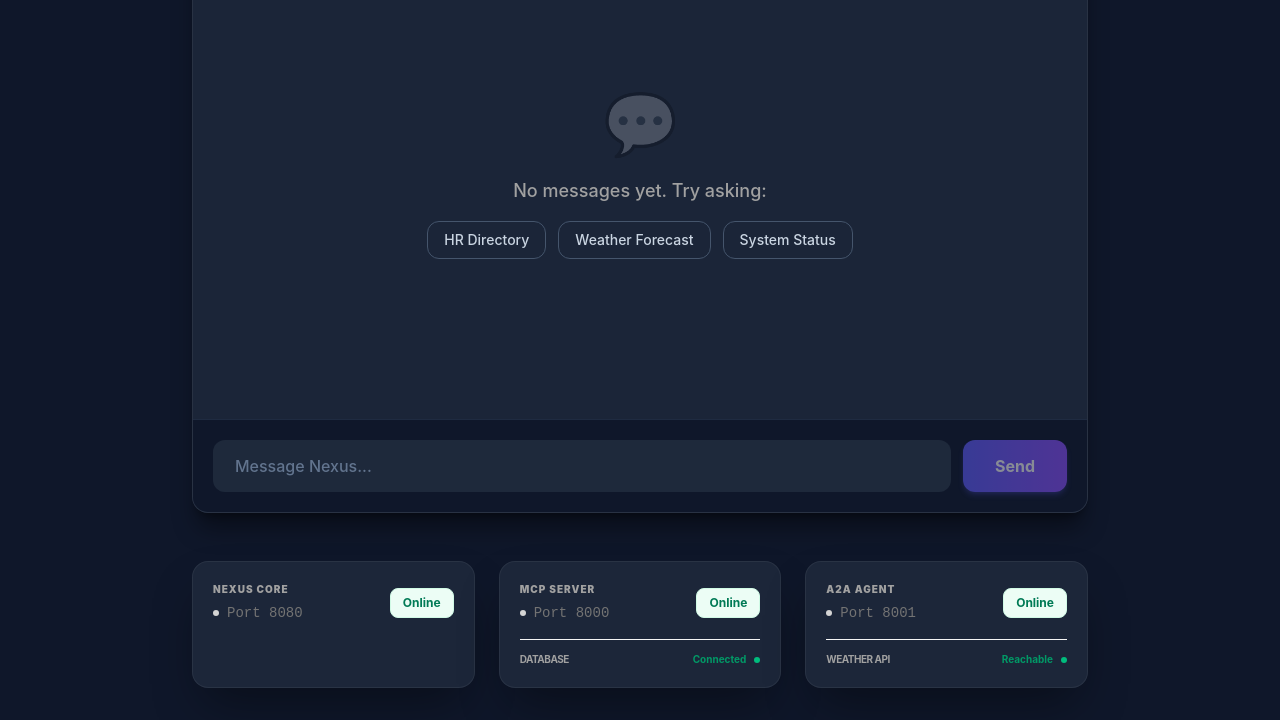
Scenario: App › renders a Tempo trace link when /run_sse returns an X-Trace-Id header
This screenshot has width=1280, height=720.
(page scrolled)
Type "Hello" into the field with placeholder "Message Nexus..." at (582,466), box [213,440,951,492]
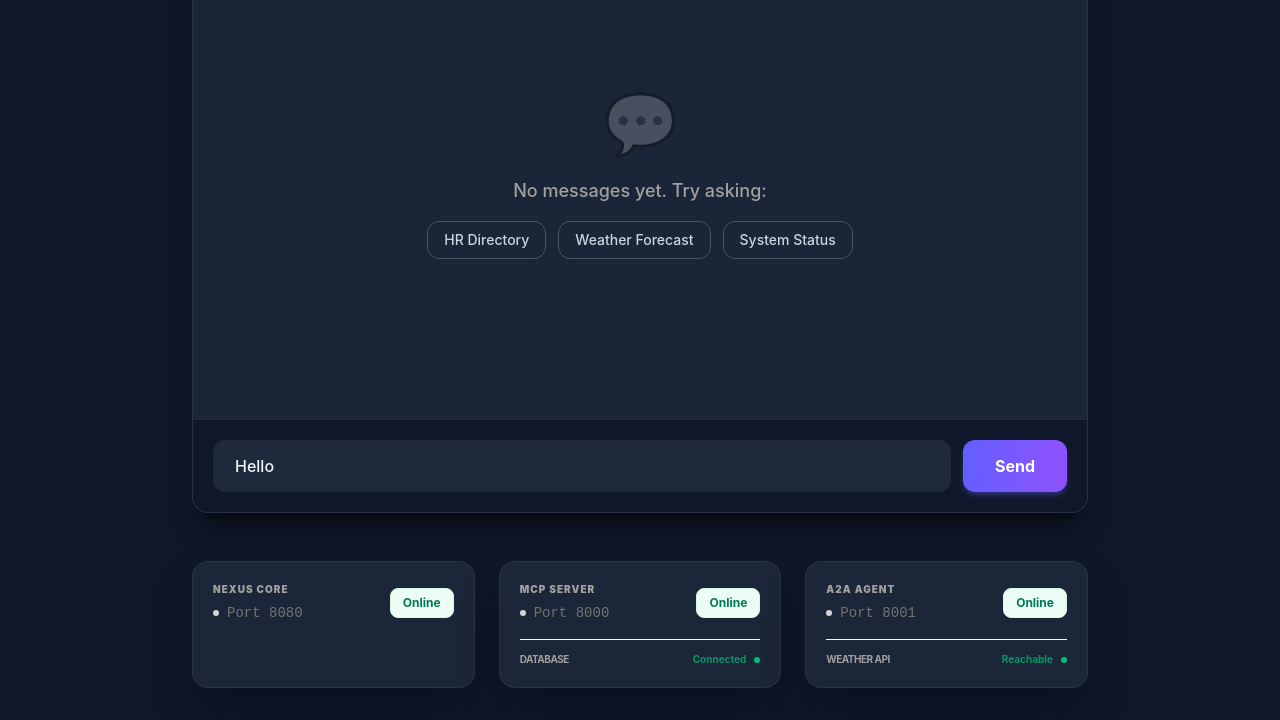
Click the button "Send" at (1015,466), box [963,440,1067,492]
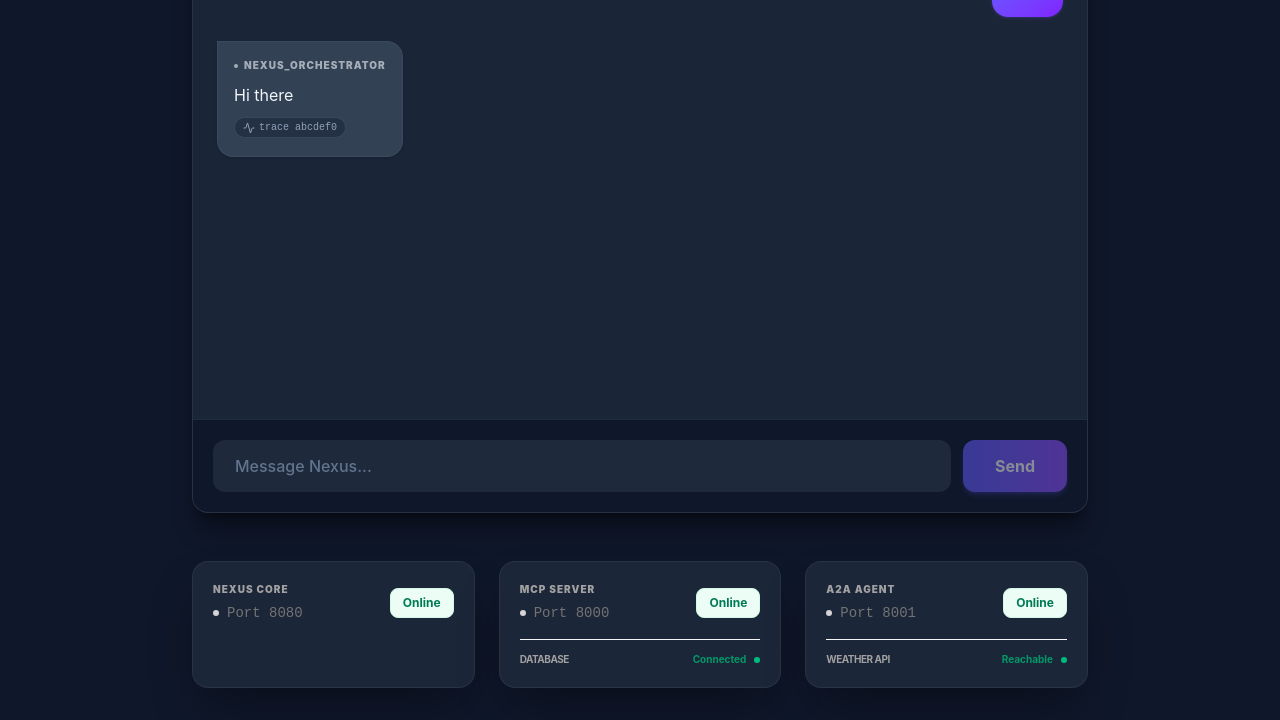
Now the text "Hi there" is shown, box [234,85,293,105]
